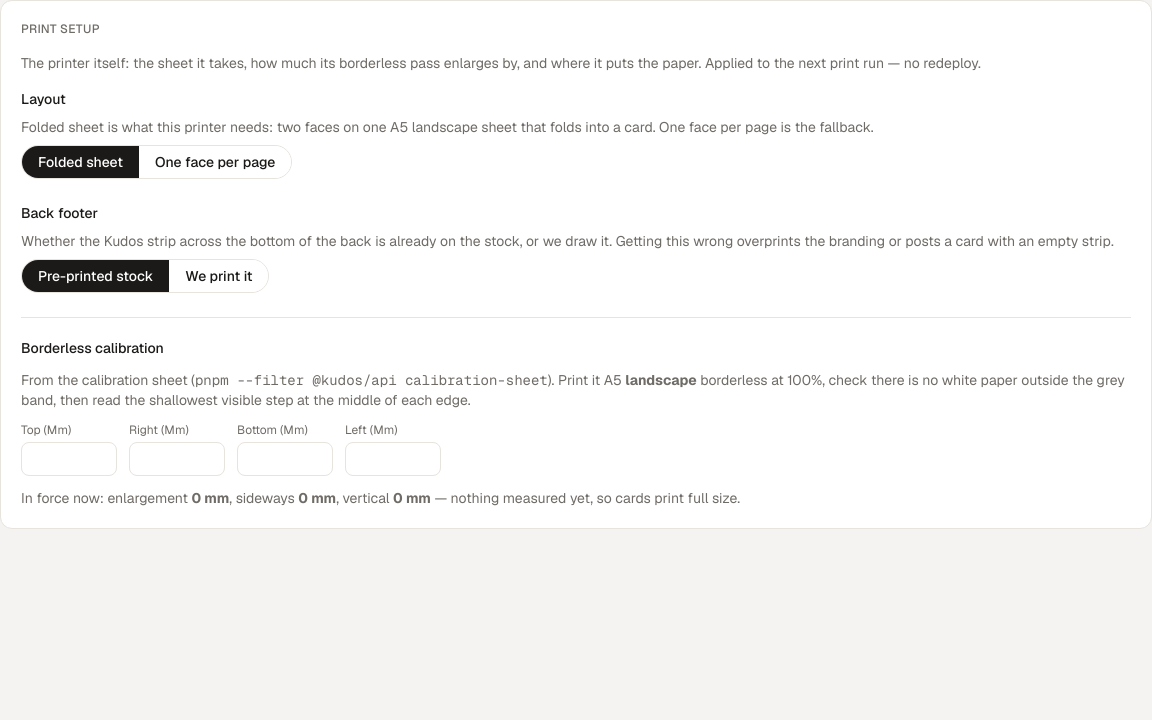
Test: PrintProfileSetup › turns the real calibration readings into the right three settings
expect the heading "Borderless calibration" is shown: met, box [21,339,164,357]
Type "2" into the number field labelled "top (mm)" at (69, 459), box [21,442,117,476]
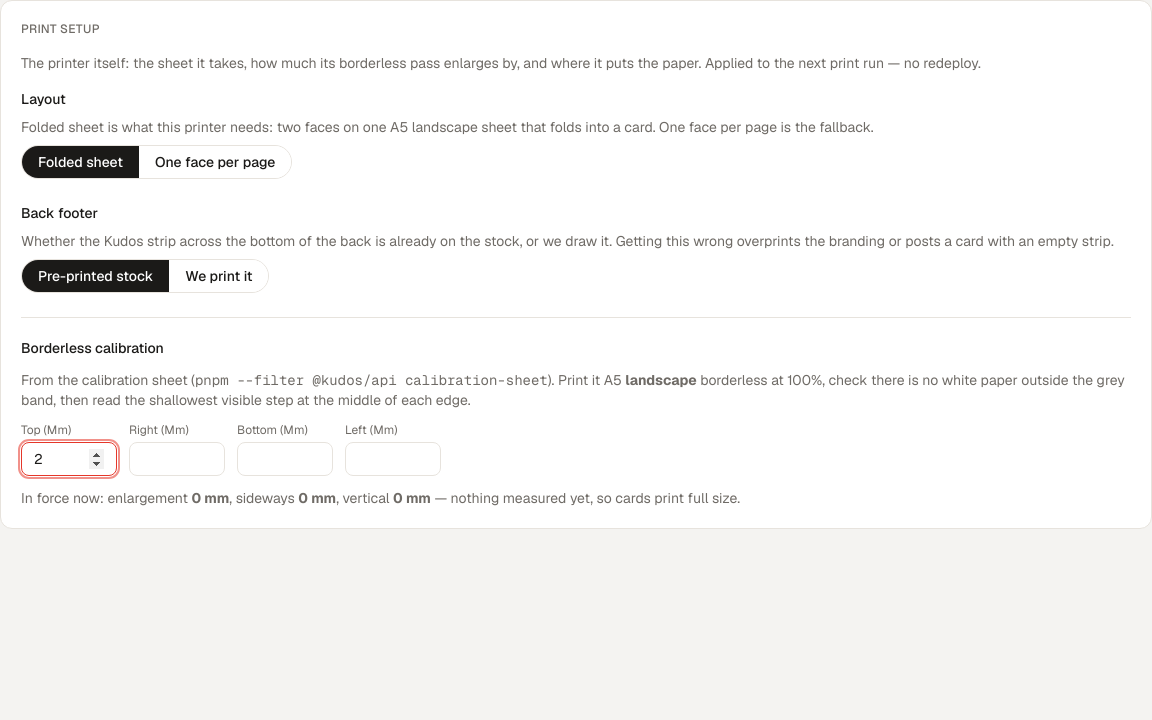
Type "5" into the number field labelled "right (mm)" at (177, 459), box [129,442,225,476]
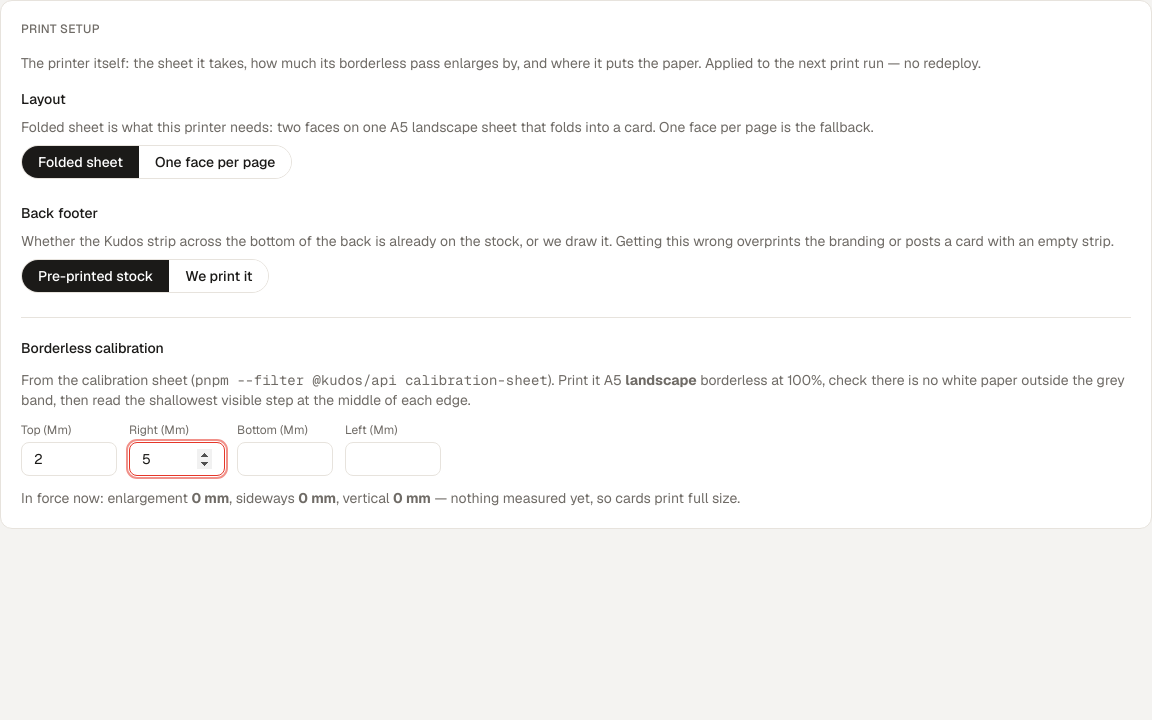
Type "2" into the number field labelled "bottom (mm)" at (285, 459), box [237,442,333,476]
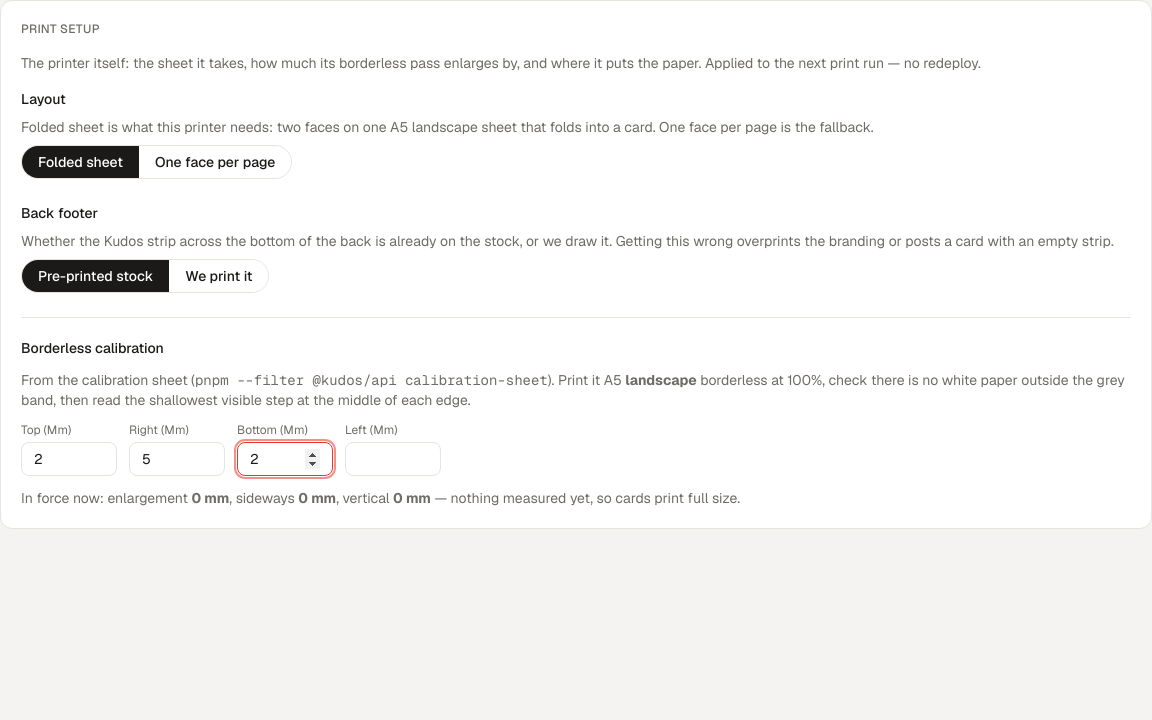
Type "1.5" into the number field labelled "left (mm)" at (393, 459), box [345,442,441,476]
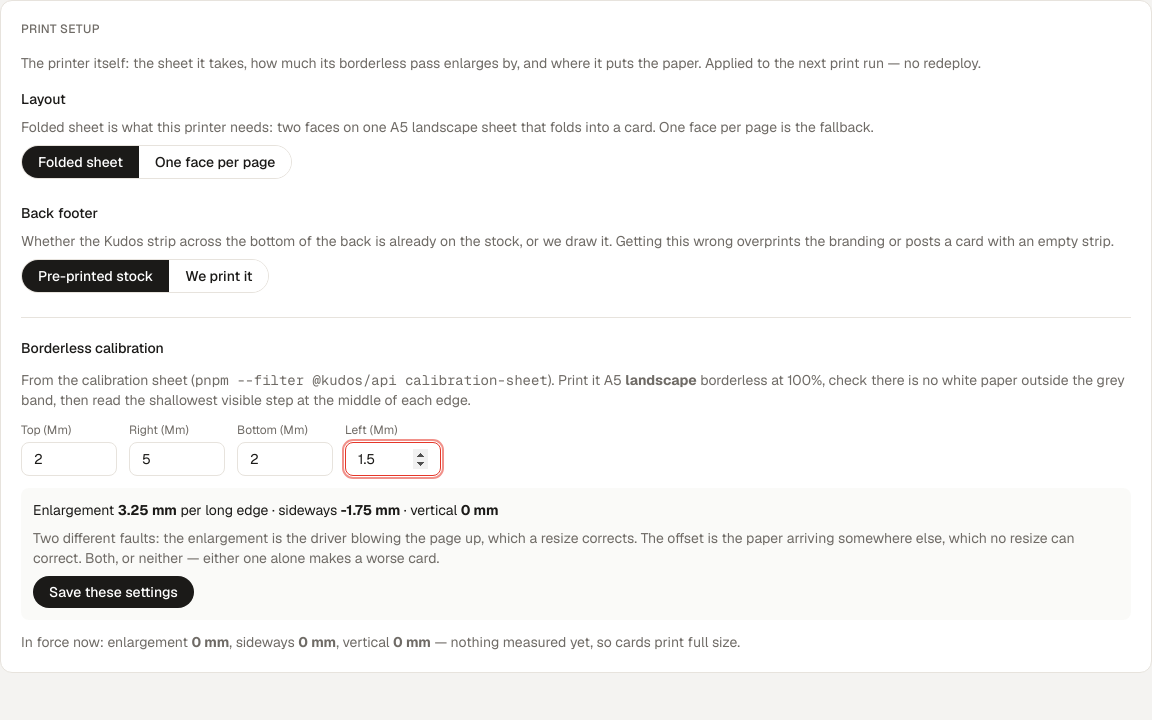
expect the text "Enlargement" shows "3.25 mm": met, box [33,501,499,519]
expect the text "Enlargement" shows "-1.75 mm": met, box [33,501,499,519]
